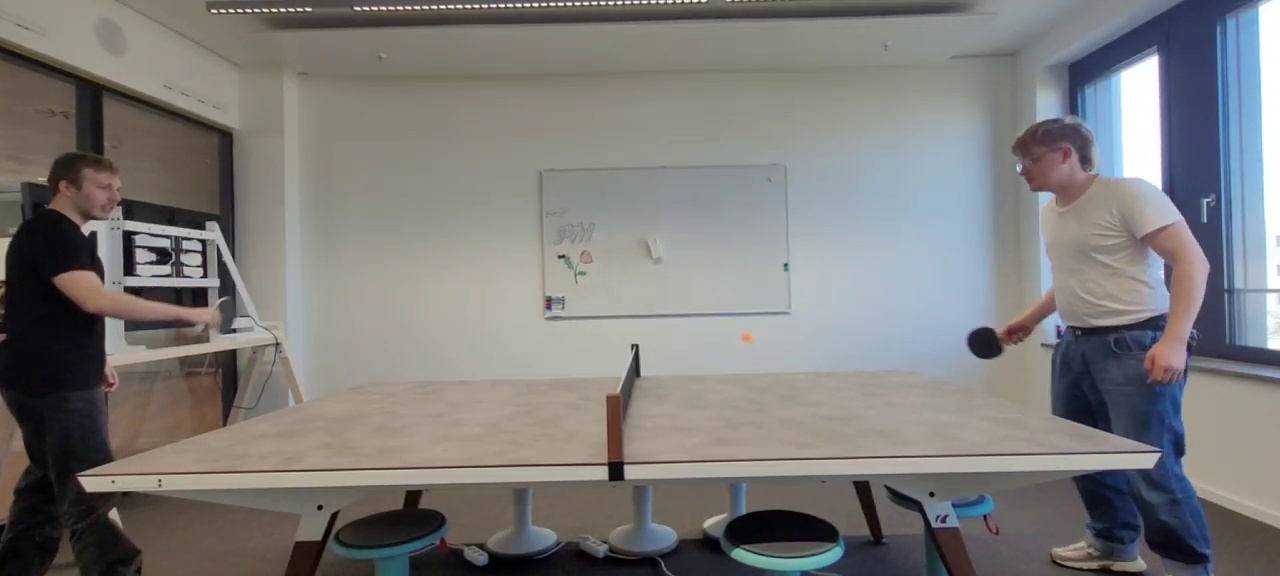plate: (76, 368, 1160, 477)
racket: (968, 326, 1011, 359), (214, 296, 235, 328)
ttball: (742, 331, 752, 342)
